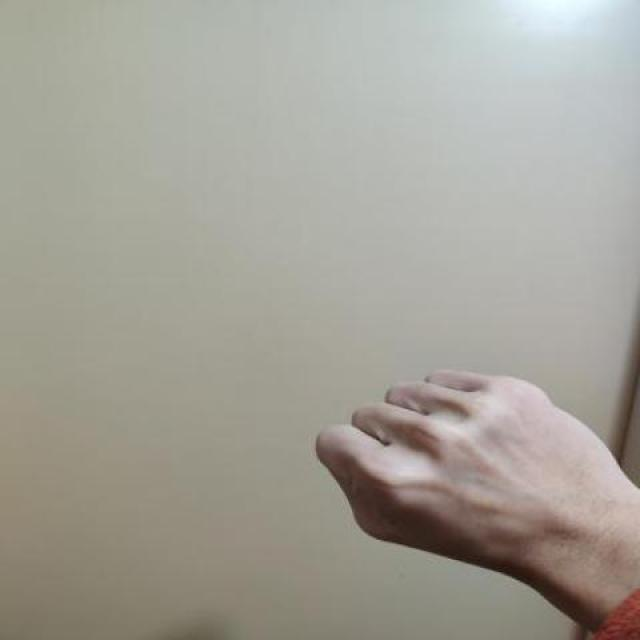Closed Hand: (309, 366, 640, 630)
